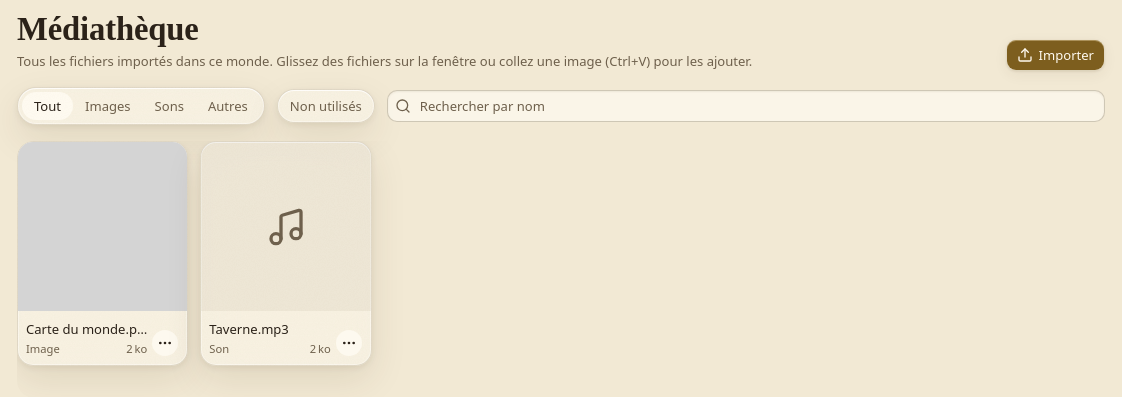
Test: filters by kind through the Rust command
Expected: the text "Taverne.mp3" is shown, [209,320,289,338]
Click the button "Sons" at (169, 106), box [143,92,196,120]
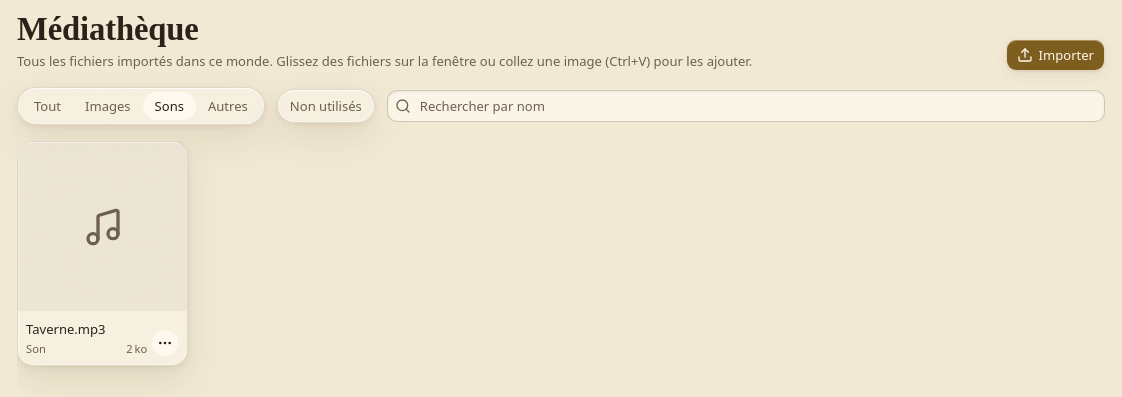
Now the text "Carte du monde.png" is gone
